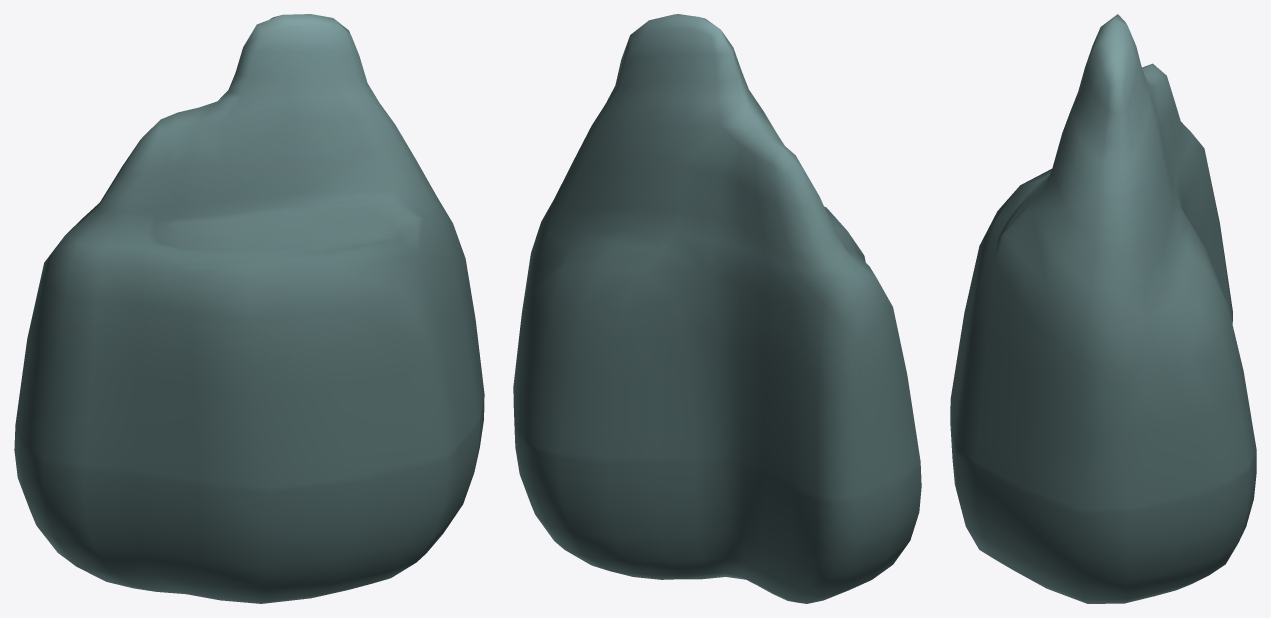
File: ROCK05.fbx
3 views of the same model, side by side, from view 1: azimuth 30°, elevation 25°; view 2: azimuth 150°, elevation 25°; view 3: azimuth 270°, elevation 25° (orthographic). The views are drawn at different scales.
Visible parts, largest first — view 1: ROCK05; view 2: ROCK05; view 3: ROCK05.
Boxes of the visible parts, left/top/right/bottom form: ROCK05: left=14, top=14, right=484, bottom=603; ROCK05: left=513, top=14, right=921, bottom=603; ROCK05: left=950, top=14, right=1256, bottom=603.
Size of the model in its own units: 9.16 by 11.61 by 5.98.
